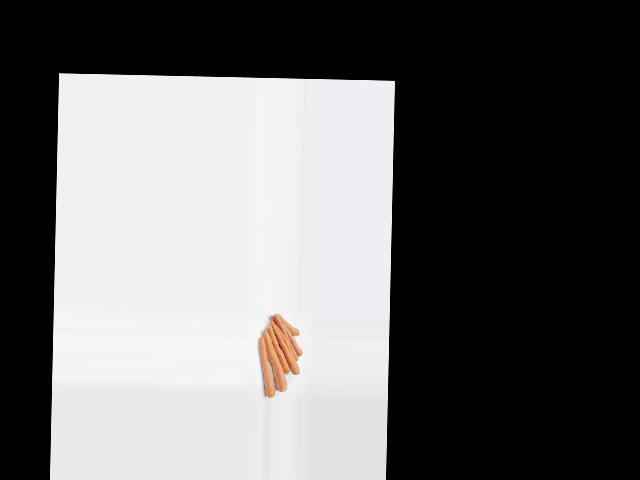carrot: (271, 311, 305, 334)
